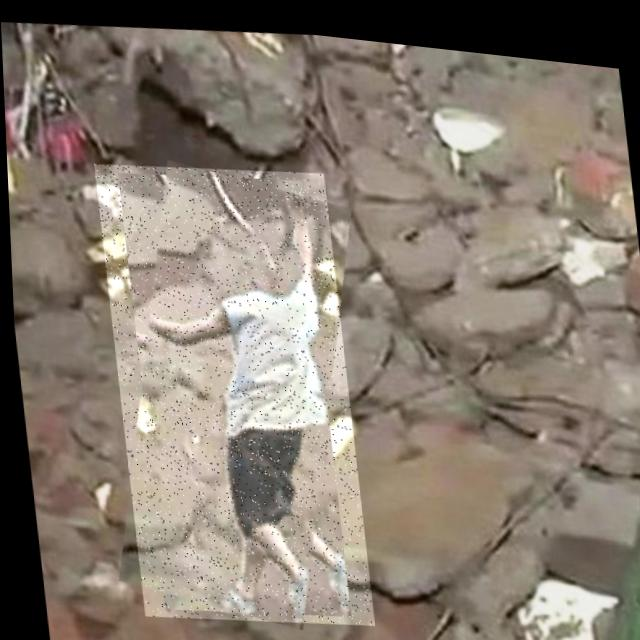Person in Rubble: (92, 146, 370, 634)
